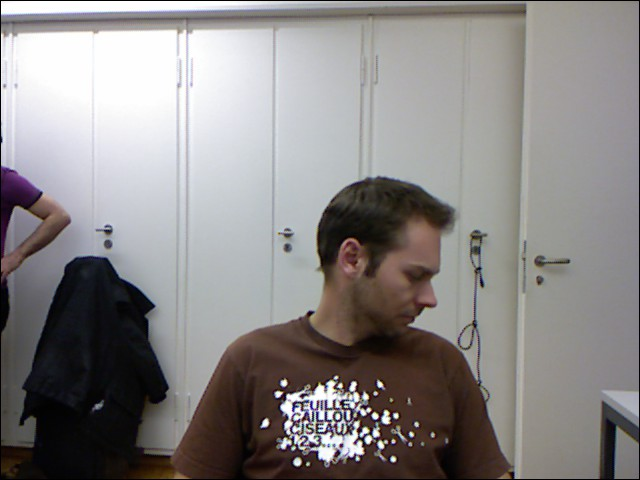deflection: (229, 182, 494, 480)
